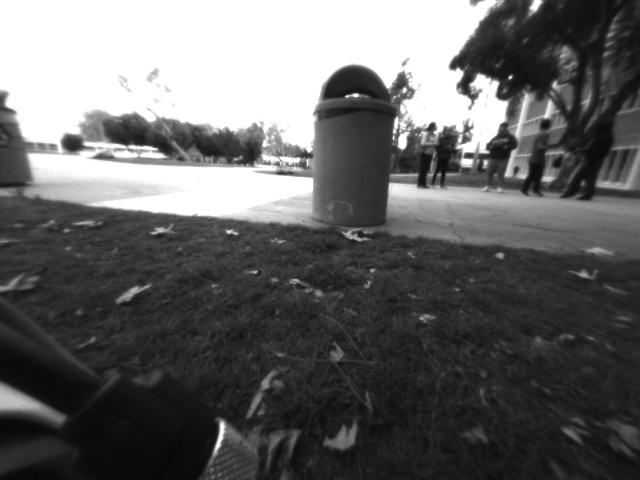trashcan: (310, 62, 396, 236)
